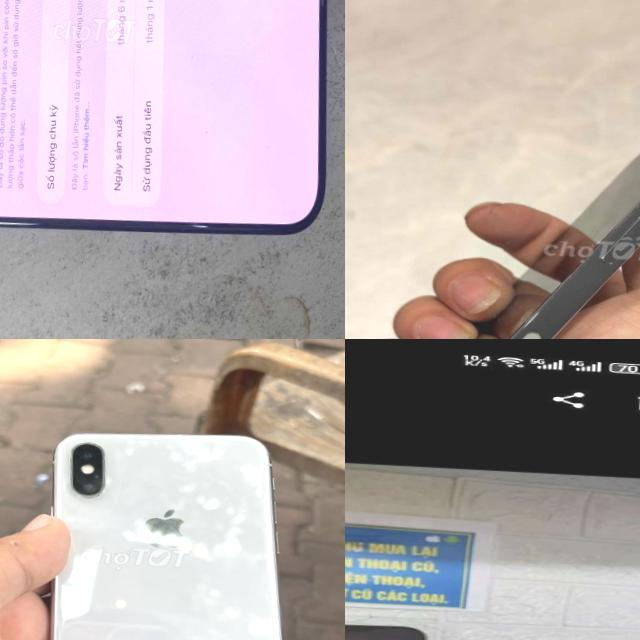gen_14: (345, 64, 640, 339)
gen_15: (0, 0, 345, 265)
gen_x_xs: (10, 416, 321, 640)
